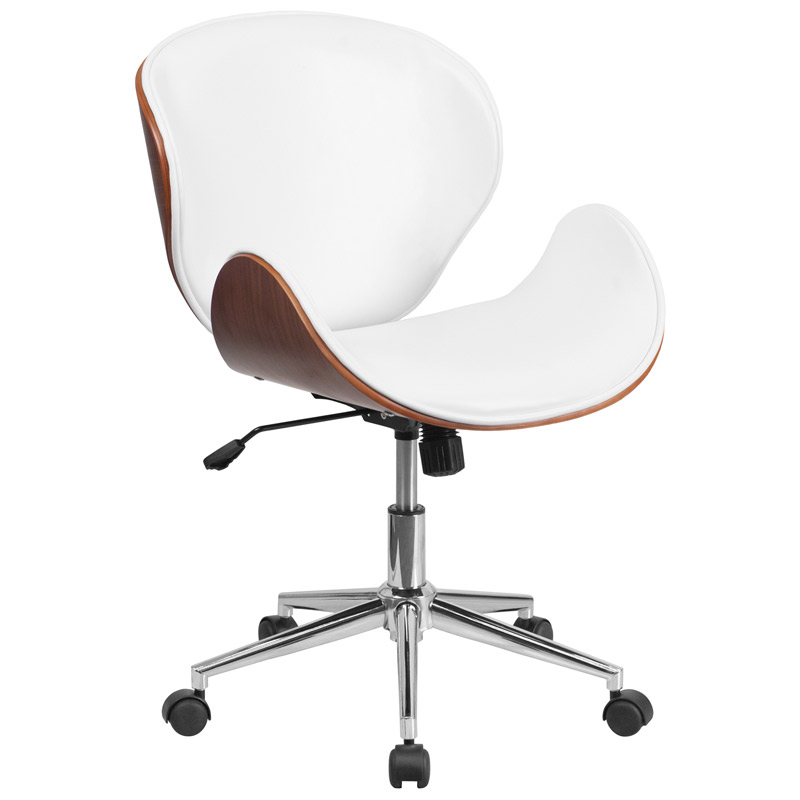chairs: (129, 17, 672, 791)
